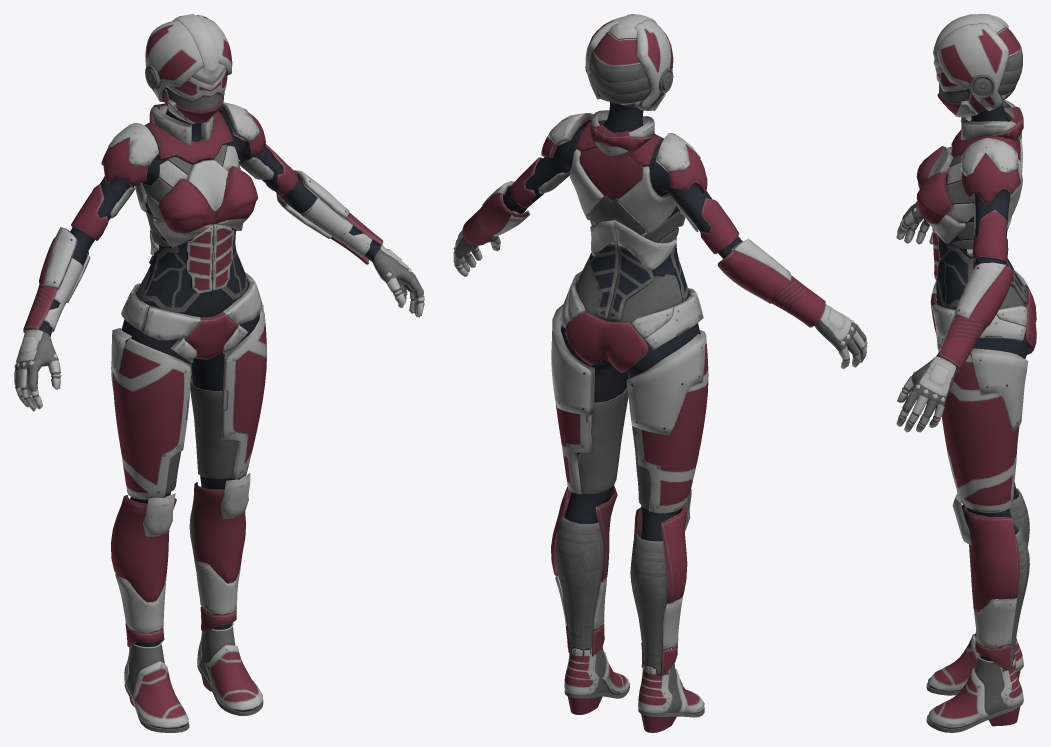
The model's file is robot-warrior.glb.
3 views of the same model, side by side, from view 1: azimuth 30°, elevation 25°; view 2: azimuth 150°, elevation 25°; view 3: azimuth 270°, elevation 25° (orthographic).
Parts seen in each view (by area): view 1: outer_thigh_low, outer_shin1_low, inner_low, main_body_low, sh_op_low, hip_front_piece1_low, outer_arm3_low, Scifi_piece1_low, breast_pieces_low, extra_pi_low, inner_thigh_low, front_stomach1_low (+13 smaller); view 2: outer_thigh_low, inner_low, inner_shin_low, main_body_low, outer_arm3_low, hip_back_piece1_low, outer_shin1_low, back_stomach2_low, inner_thigh_low, Back_pi_low, Scifi_piece1_low, extra_pi_low (+9 smaller); view 3: outer_thigh_low, outer_shin1_low, inner_low, outer_arm3_low, extra_pi_low, main_body_low, sh_op_low, Scifi_piece1_low, finger_low, hip_back_piece1_low, breast_pieces_low, inner_shin_low (+16 smaller).
Boxes of the visible parts, x1,y1,x2,y2 form: outer_thigh_low: [111, 304, 266, 499]; outer_shin1_low: [111, 477, 245, 646]; inner_low: [28, 107, 380, 646]; main_body_low: [134, 111, 247, 247]; sh_op_low: [131, 644, 263, 728]; hip_front_piece1_low: [143, 281, 262, 362]; outer_arm3_low: [23, 170, 383, 337]; Scifi_piece1_low: [101, 102, 265, 185]; breast_pieces_low: [158, 166, 257, 233]; extra_pi_low: [145, 15, 232, 101]; inner_thigh_low: [165, 375, 237, 493]; front_stomach1_low: [186, 223, 234, 293]; outer_thigh_low: [551, 304, 708, 513]; inner_low: [502, 102, 742, 541]; inner_shin_low: [555, 510, 670, 675]; main_body_low: [569, 120, 685, 242]; outer_arm3_low: [462, 181, 825, 327]; hip_back_piece1_low: [561, 270, 701, 372]; outer_shin1_low: [551, 485, 687, 675]; back_stomach2_low: [589, 220, 676, 320]; inner_thigh_low: [578, 375, 650, 509]; Back_pi_low: [590, 32, 650, 107]; Scifi_piece1_low: [541, 113, 707, 192]; extra_pi_low: [585, 16, 673, 110]; outer_thigh_low: [938, 348, 1028, 512]; outer_shin1_low: [961, 482, 1019, 669]; inner_low: [936, 101, 1029, 661]; outer_arm3_low: [938, 262, 1013, 372]; extra_pi_low: [937, 14, 1008, 110]; main_body_low: [926, 111, 1022, 249]; sh_op_low: [928, 634, 989, 728]; Scifi_piece1_low: [960, 119, 1020, 204]; finger_low: [896, 200, 945, 432]; hip_back_piece1_low: [979, 271, 1036, 354]; breast_pieces_low: [916, 146, 952, 224]; inner_shin_low: [1000, 487, 1029, 671].
Bounding box in the file's own units: 1.12 × 1.83 × 0.3385.
Materials: 1 (1 with a texture image).
